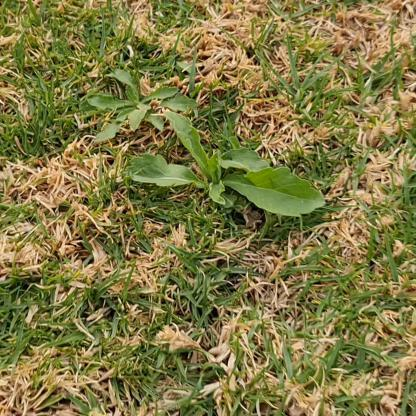Weeds: (128, 110, 326, 215), (84, 70, 198, 140)
